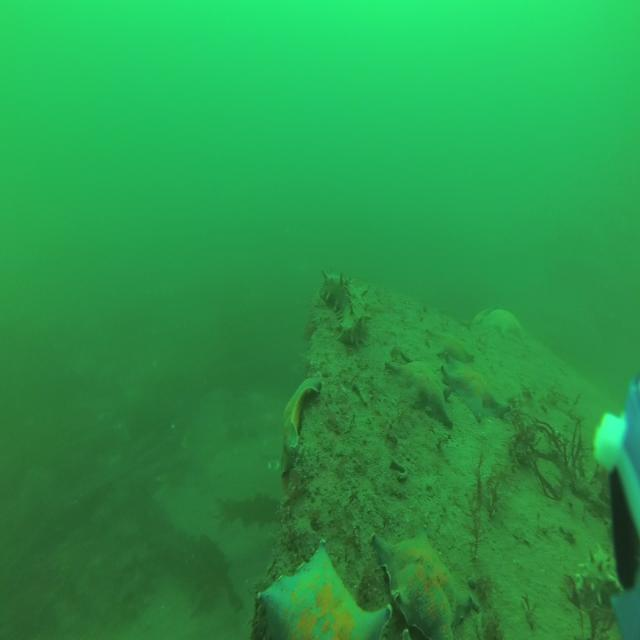echinus: (578, 545, 621, 609)
holothurian: (319, 267, 374, 351)
starfish: (257, 537, 392, 640), (371, 527, 474, 640), (441, 353, 508, 425), (387, 358, 453, 428), (283, 376, 320, 476), (482, 308, 525, 341)
